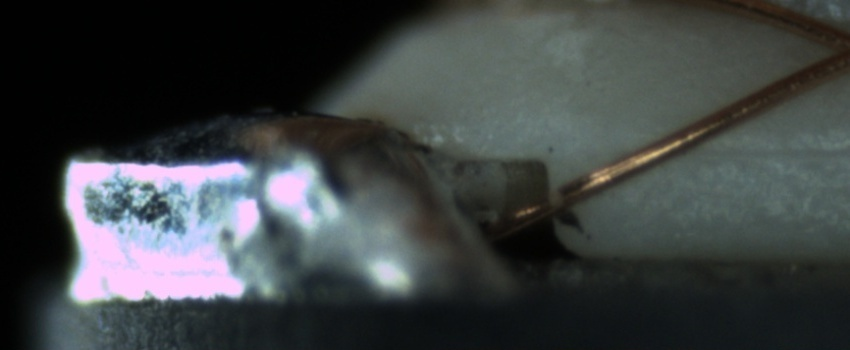CL: (804, 11, 850, 81)
DL: (677, 120, 850, 183)
